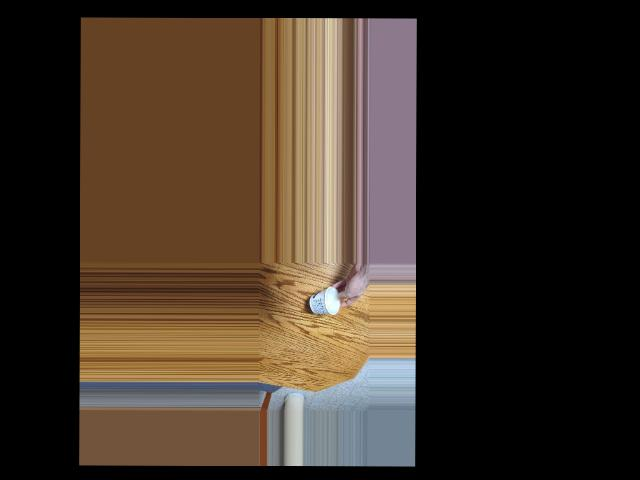cotage: (311, 285, 341, 317)
